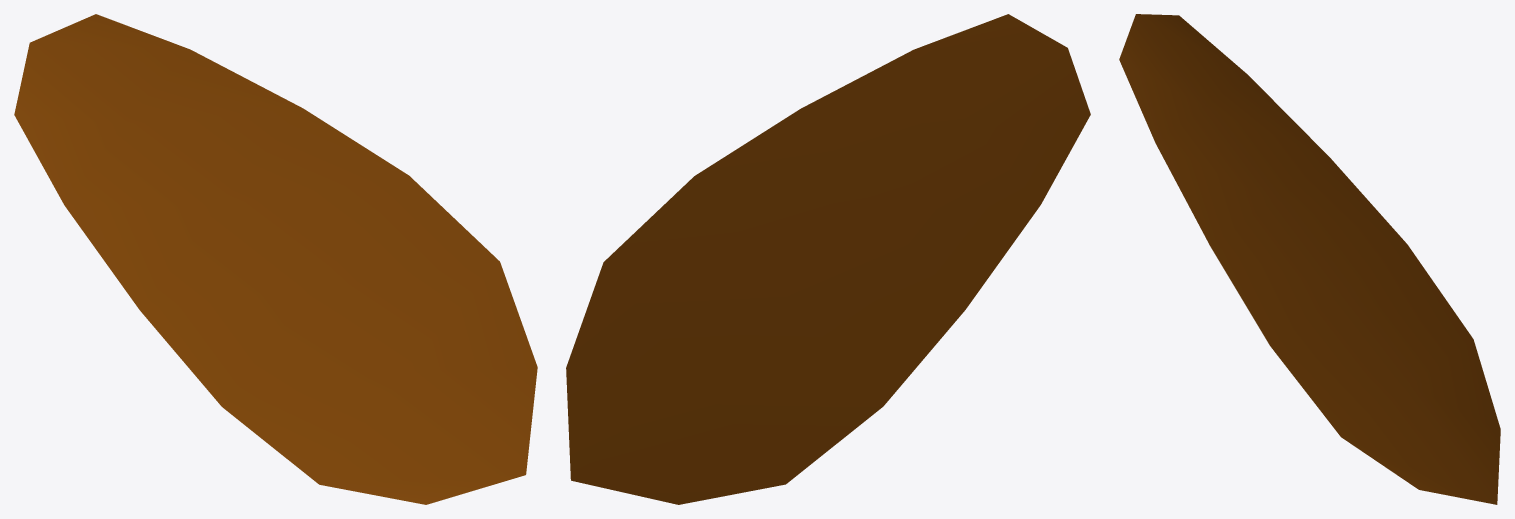
File: ara_feather_flight_secondary_029.obj
3 views of the same model, side by side, from view 1: azimuth 30°, elevation 25°; view 2: azimuth 150°, elevation 25°; view 3: azimuth 330°, elevation 25° (orthographic). The views are drawn at different scales.
Parts seen in each view (by area): view 1: feather_flight_secondary_029; view 2: feather_flight_secondary_029; view 3: feather_flight_secondary_029.
Boxes of the visible parts, bbox=[...] form: feather_flight_secondary_029: bbox=[14, 14, 537, 504]; feather_flight_secondary_029: bbox=[566, 14, 1090, 504]; feather_flight_secondary_029: bbox=[1119, 14, 1500, 504].
Size of the model in its own units: 0.0606 by 0.0631 by 0.000803.
